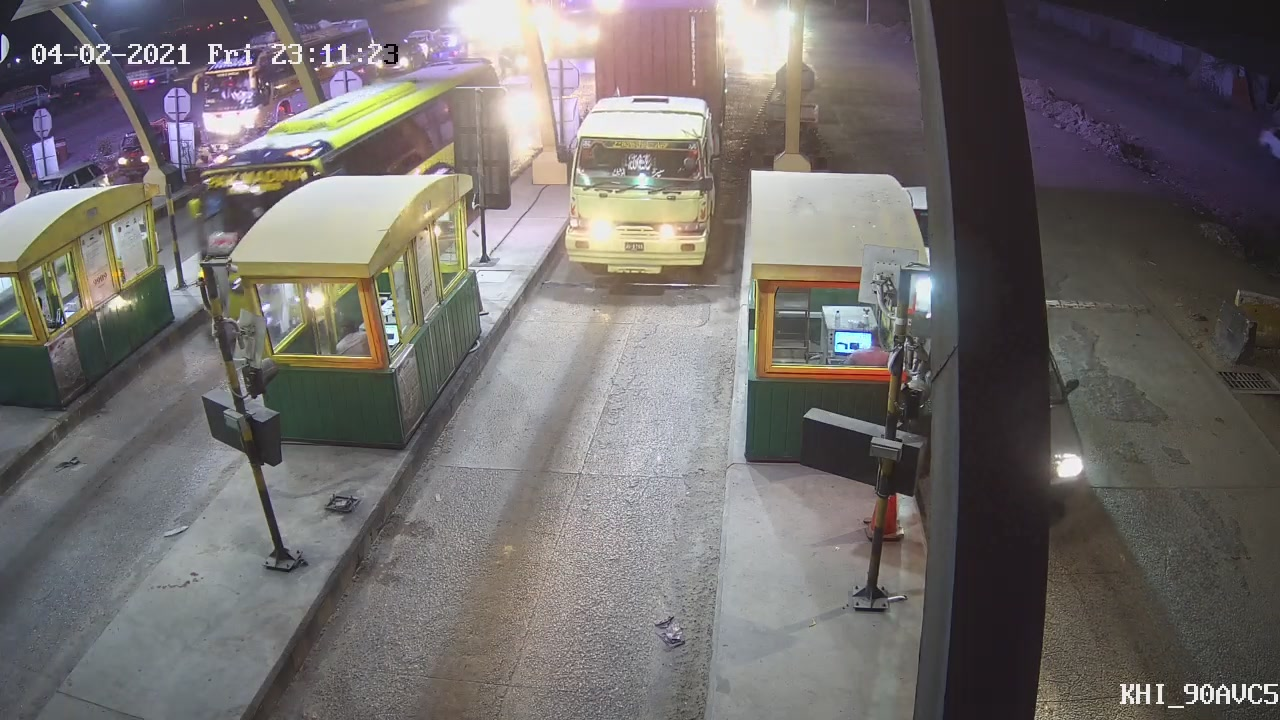F6: (559, 30, 736, 289)
